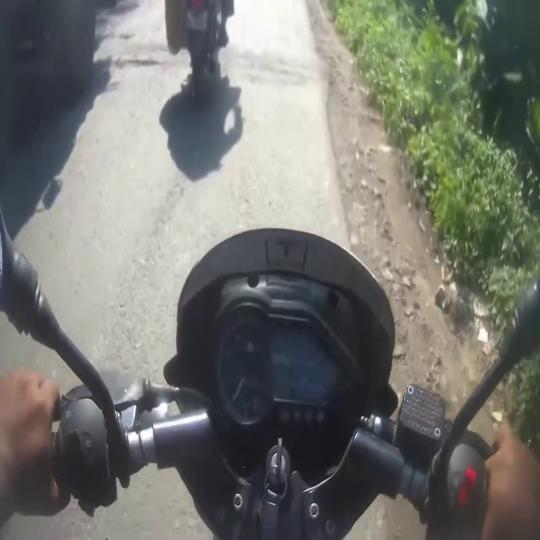Speed Bump: (230, 38, 330, 88), (96, 30, 166, 67)
